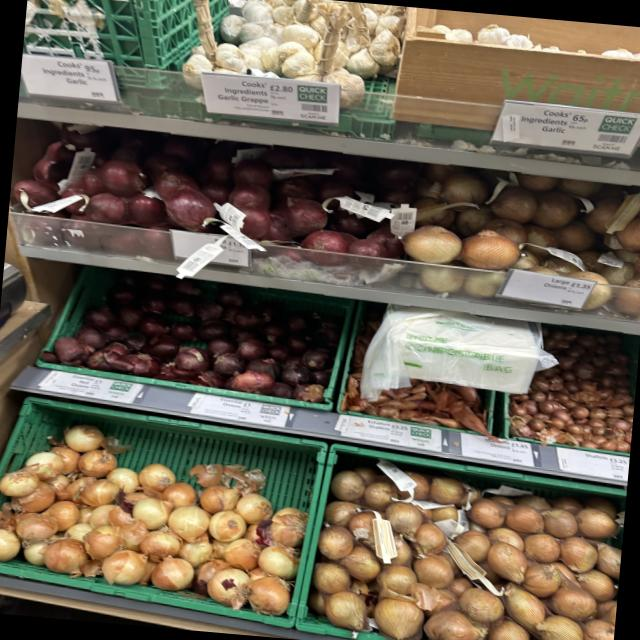Cebolla: (20, 110, 421, 282), (0, 418, 306, 620), (319, 460, 627, 640), (407, 162, 640, 310), (88, 271, 338, 404), (521, 334, 639, 456)
